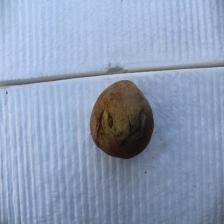Diseased-fungal potato: (89, 78, 155, 162)
